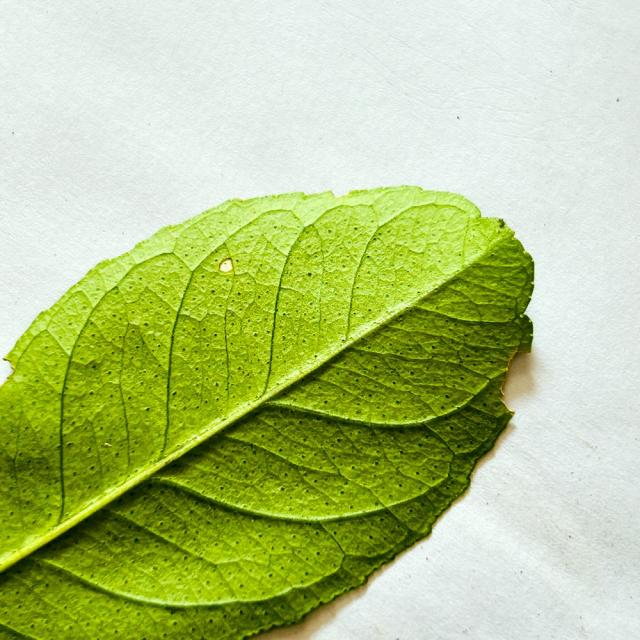Deficiency Leaf: (502, 346, 536, 412)
Lemon: (0, 188, 534, 639)
